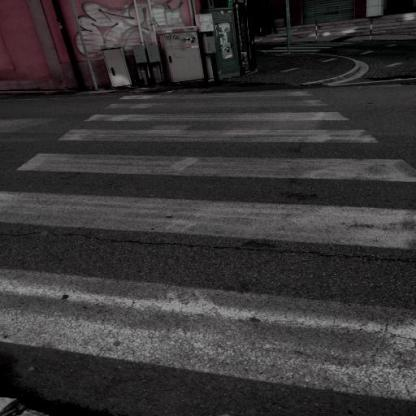crosswalk: (0, 186, 416, 406), (53, 109, 384, 150)
